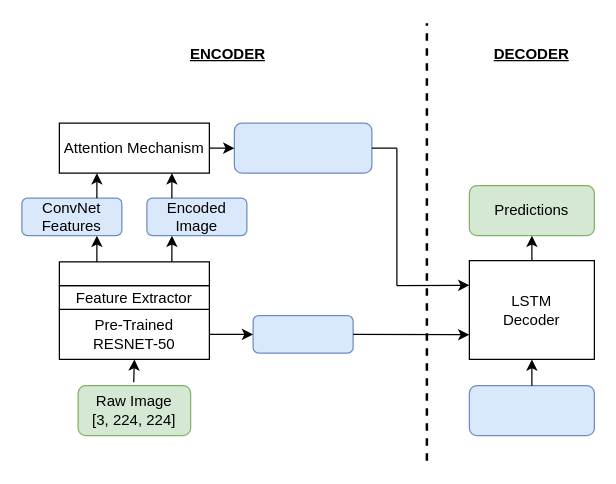
Image size: 616x484. Some labels were removed from this diagram. The centre of each missing label's shape, as x and y in pixels:
"Attention-Weighted Encodings" goes at point 302,147.
"Caption Embeddings" goes at point 531,410.
"Hidden State" goes at point 302,333.
"Image Encoder" goes at point 133,273.
